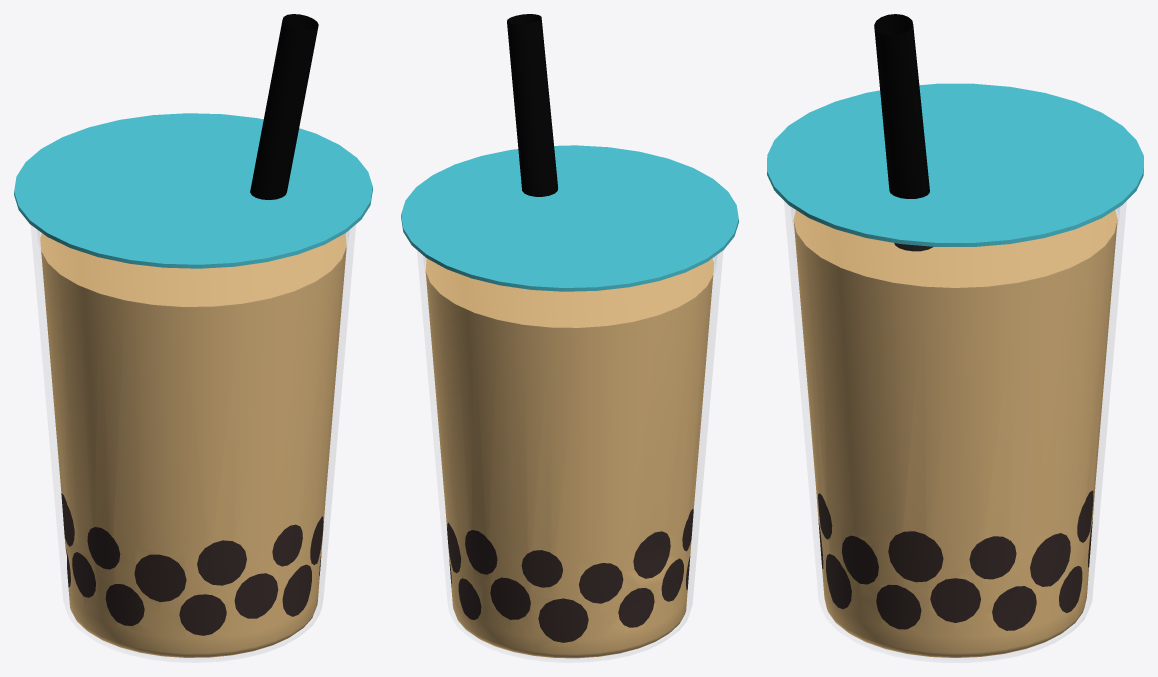
Rendered from bubble_tea.glb.
3 renders of one model, left to right at view 1: azimuth 30°, elevation 25°; view 2: azimuth 150°, elevation 25°; view 3: azimuth 270°, elevation 25°, orthographic. The views are drawn at different scales.
Parts seen in each view (by area): view 1: Circle.2292, Circle.2293; view 2: Circle.2292, Circle.2293; view 3: Circle.2292, Circle.2293.
Part boxes in pixels (x1,y1,x2,y2): Circle.2292: (40, 233, 346, 657); Circle.2293: (14, 14, 372, 662); Circle.2292: (425, 258, 714, 658); Circle.2293: (401, 14, 738, 662); Circle.2292: (793, 210, 1117, 657); Circle.2293: (767, 14, 1143, 662).
Size of the model in its own units: 1.14 by 2.11 by 1.14.
Materials: 2 (1 with a texture image).
